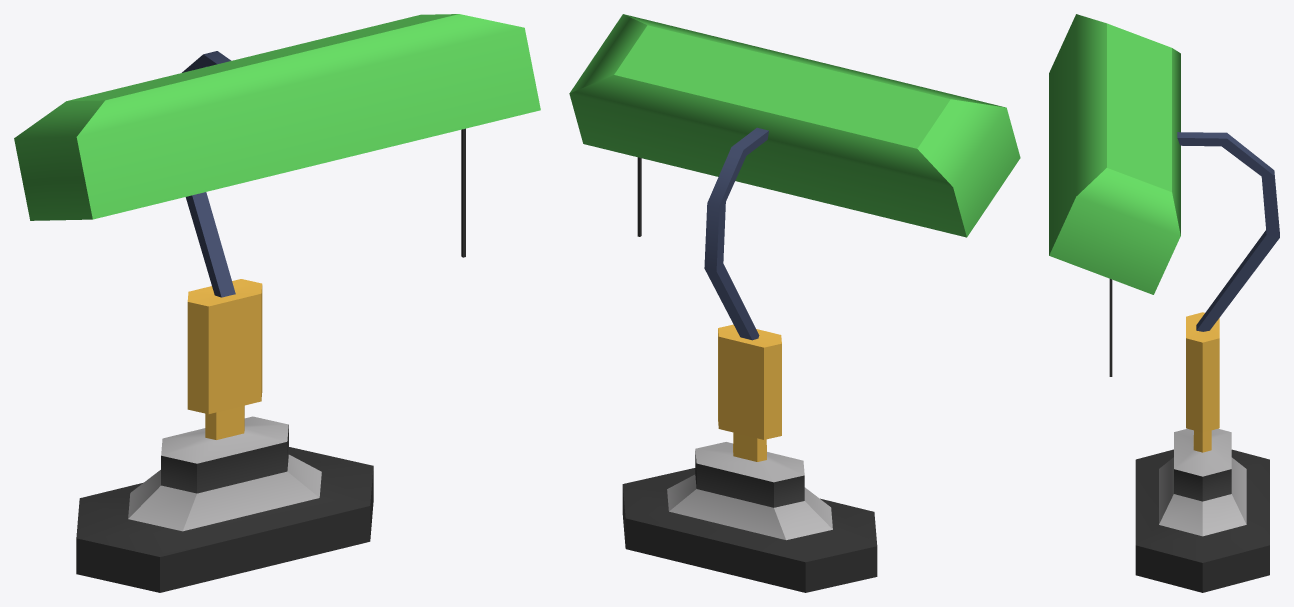
File: Lamp_Study.fbx
3 views of the same model, side by side, from view 1: azimuth 30°, elevation 25°; view 2: azimuth 150°, elevation 25°; view 3: azimuth 270°, elevation 25° (orthographic). The views are drawn at different scales.
Parts seen in each view (by area): view 1: Desk_Lamp; view 2: Desk_Lamp; view 3: Desk_Lamp.
Boxes of the visible parts, left/top/right/bottom form: Desk_Lamp: left=14, top=14, right=540, bottom=592; Desk_Lamp: left=569, top=14, right=1020, bottom=592; Desk_Lamp: left=1049, top=14, right=1279, bottom=592.
Bounding box in the file's own units: 62.42 × 69.58 × 33.31.
